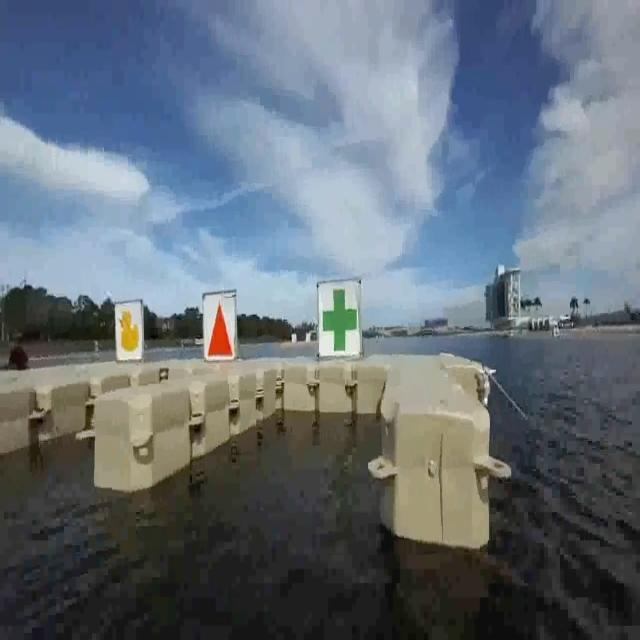blue-cross: (316, 281, 361, 362)
red-dot: (203, 293, 237, 363)
yellow-duck: (113, 300, 144, 360)
